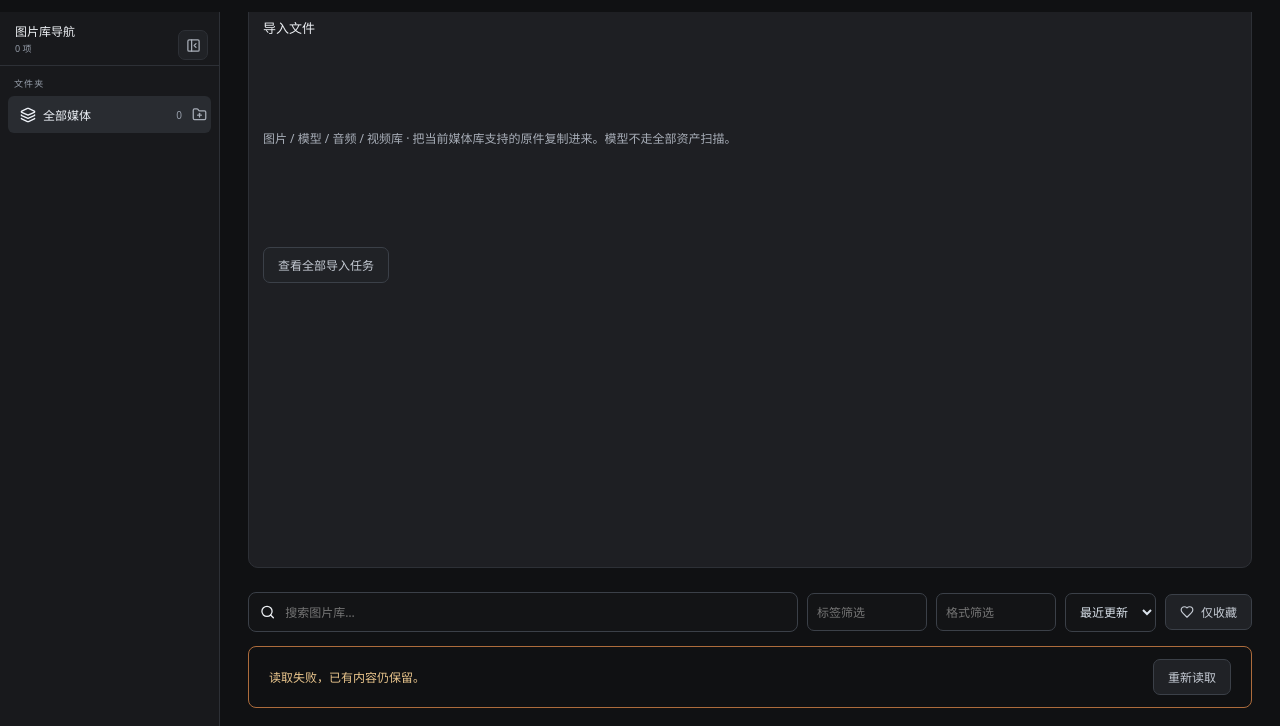
Scenario: MediaLibraryView folder creation › shows read failures with retry instead of an empty library
(page scrolled)
Expected: the text "还没有媒体" is not shown
Click the button "重新读取" at (1192, 677), box left=1153, top=659, right=1231, bottom=695
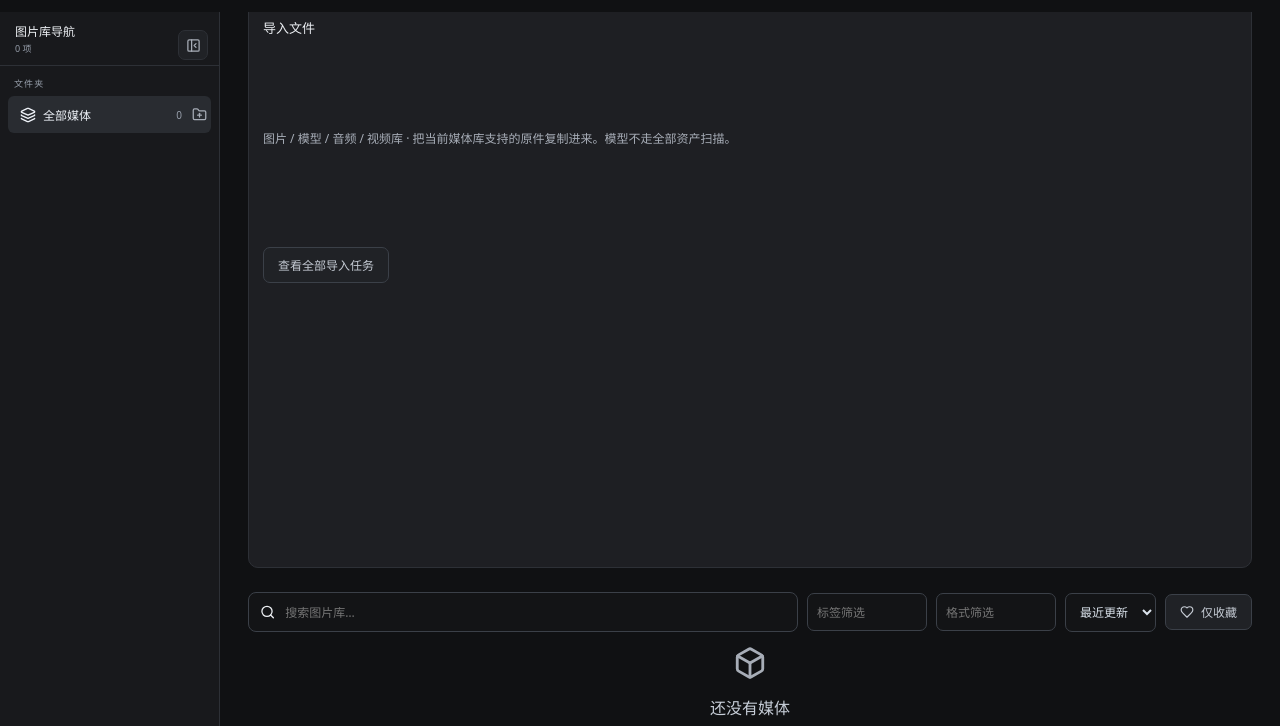
Expected: the heading "还没有媒体" is shown, left=710, top=695, right=790, bottom=719
